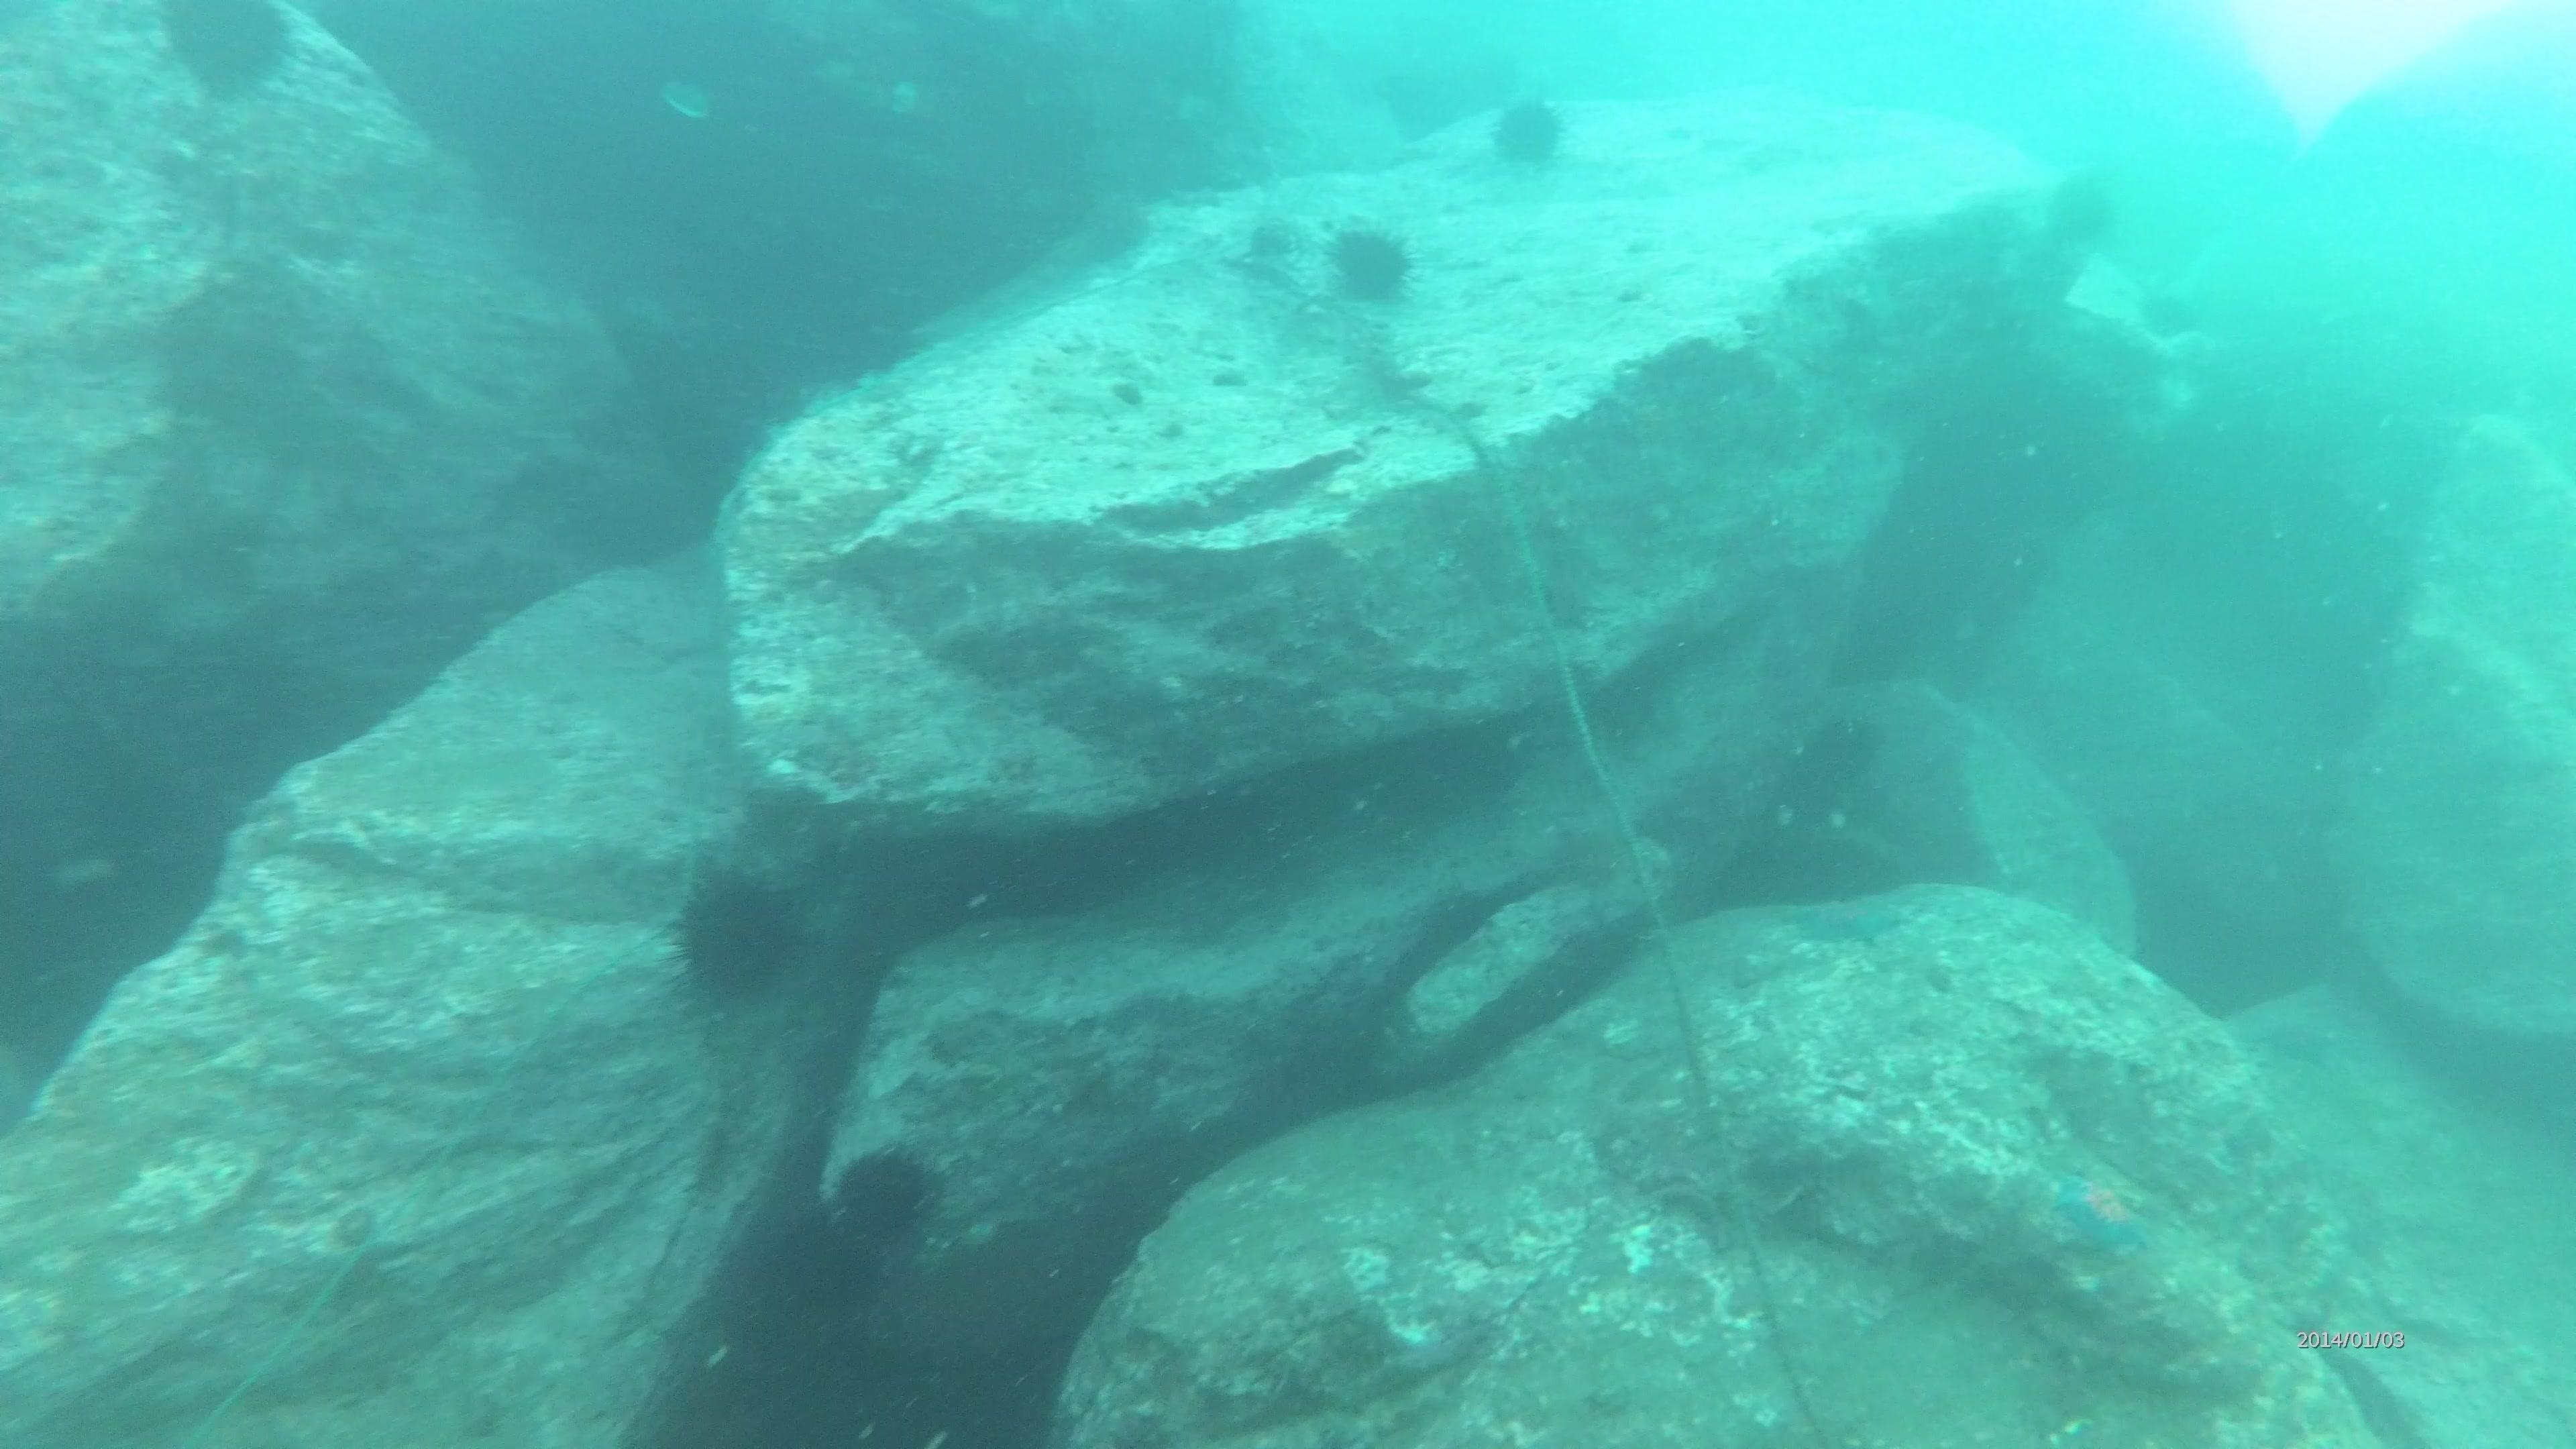echinus: (662, 863, 812, 1014), (150, 2, 304, 103), (824, 1139, 948, 1258), (1318, 214, 1422, 313), (1481, 88, 1576, 179), (2038, 165, 2125, 258)
starfish: (2042, 1150, 2169, 1261), (1787, 885, 1916, 954)
